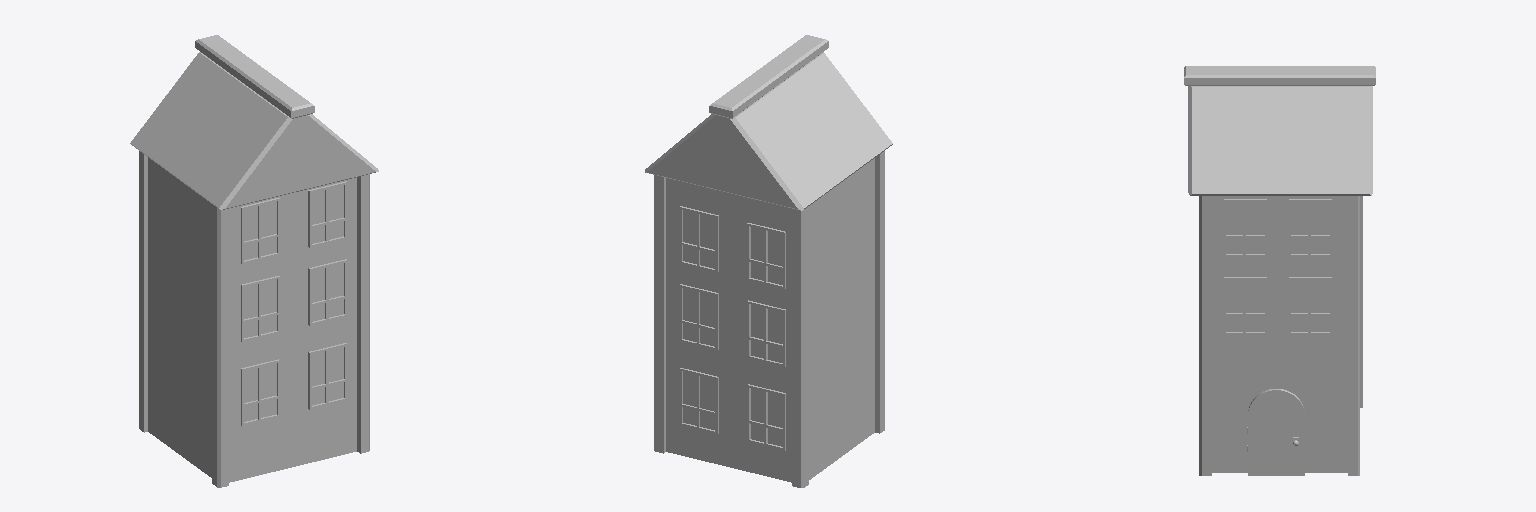
Rendered from k1 building.obj.
3 views of the same model, side by side, from view 1: azimuth 30°, elevation 25°; view 2: azimuth 150°, elevation 25°; view 3: azimuth 270°, elevation 25° (orthographic).
Parts seen in each view (by area): view 1: k1_body, k1_roof_beam_door1, k1_window_knob1; view 2: k1_body, k1_roof_beam_door1, k1_window_knob1; view 3: k1_roof_beam_door1, k1_body, k1_window_knob1.
Boxes of the visible parts, x1,y1,x2,y2 form: k1_body: [148, 157, 356, 482]; k1_roof_beam_door1: [130, 35, 378, 487]; k1_window_knob1: [241, 181, 347, 425]; k1_body: [666, 158, 874, 482]; k1_roof_beam_door1: [645, 35, 892, 487]; k1_window_knob1: [680, 206, 785, 450]; k1_roof_beam_door1: [1184, 66, 1375, 475]; k1_body: [1212, 196, 1347, 472]; k1_window_knob1: [1224, 199, 1331, 451].
Bounding box in the file's own units: 149 × 326 × 153.